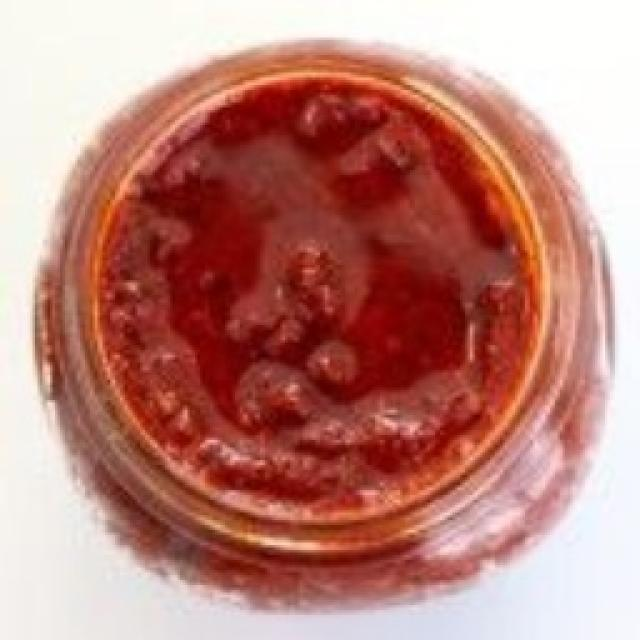Harissa: (32, 40, 612, 618)
